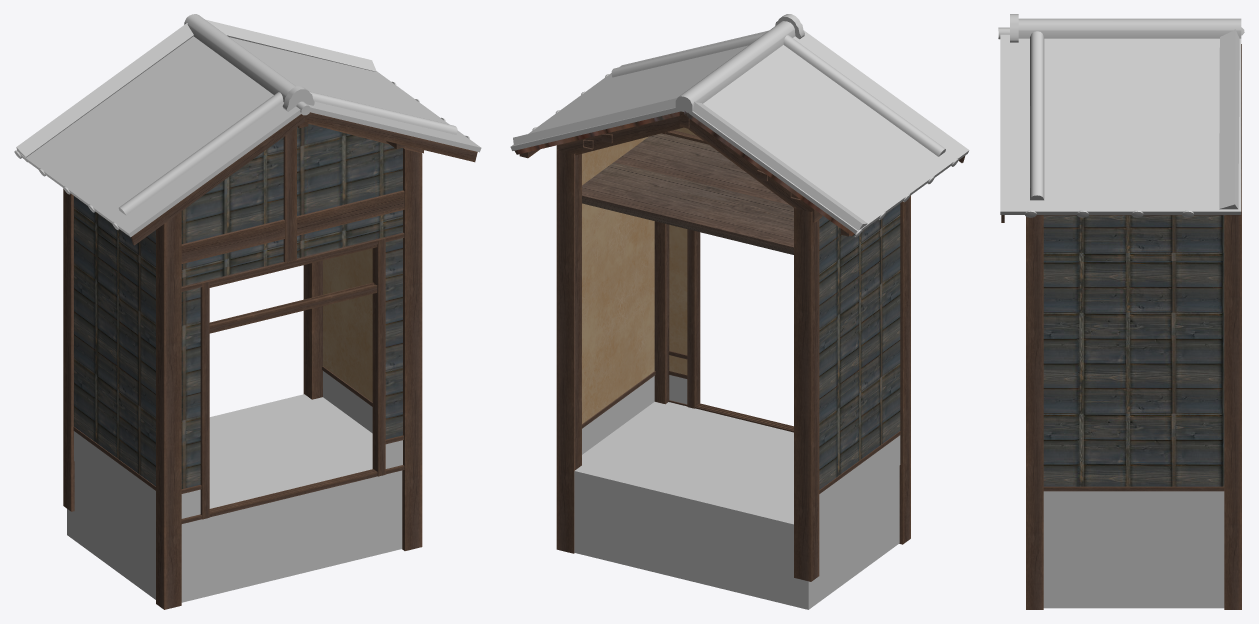
File: kawara_entrance_2tb.fbx
3 views of the same model, side by side, from view 1: azimuth 30°, elevation 25°; view 2: azimuth 150°, elevation 25°; view 3: azimuth 270°, elevation 25° (orthographic). The views are drawn at different scales.
Visible parts, largest first — view 1: kawara_entrance_2tb; view 2: kawara_entrance_2tb; view 3: kawara_entrance_2tb.
Part boxes in pixels (box(x1,y1,x2,y2)): kawara_entrance_2tb: box(14, 14, 481, 609); kawara_entrance_2tb: box(510, 14, 969, 609); kawara_entrance_2tb: box(998, 14, 1244, 609).
Size of the model in its own units: 456 by 605 by 256.
